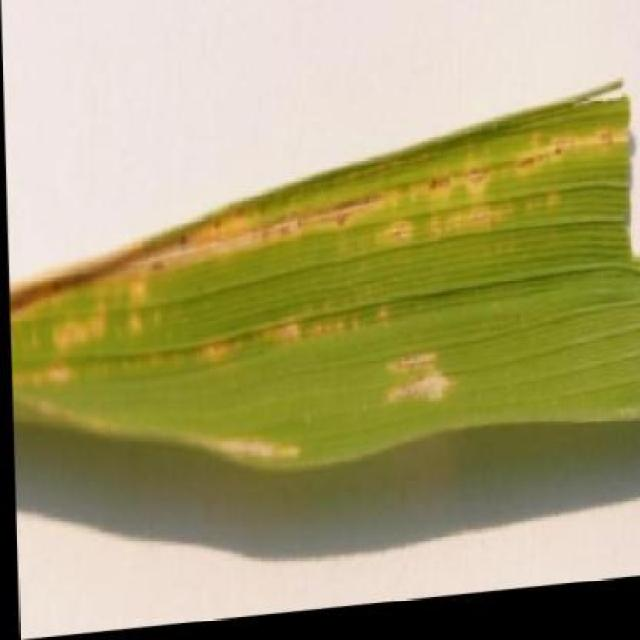Brown_Spot: (3, 84, 640, 504)
